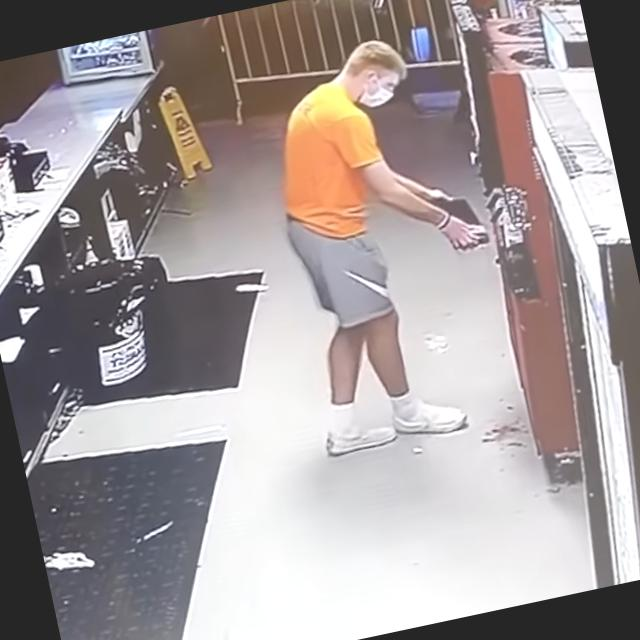person: (244, 25, 525, 458)
